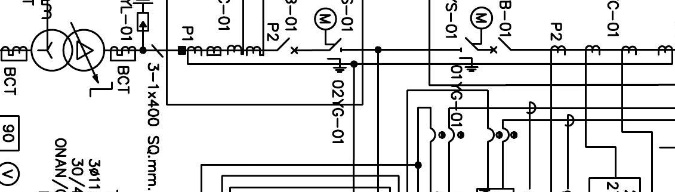11522_tx_dyn1: (30, 28, 105, 72)
115_3ways_ds_w_motor: (458, 6, 493, 73), (313, 7, 347, 73)
115_breaker: (490, 36, 512, 54), (276, 37, 298, 55)
